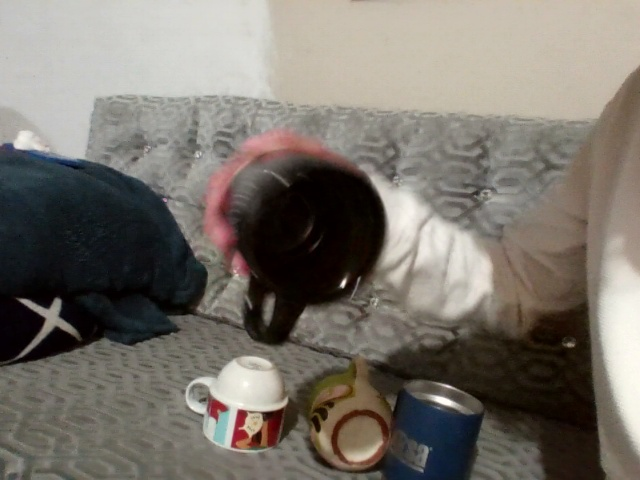botella: (192, 120, 371, 339), (181, 344, 305, 469), (315, 359, 385, 477), (398, 375, 476, 480)
